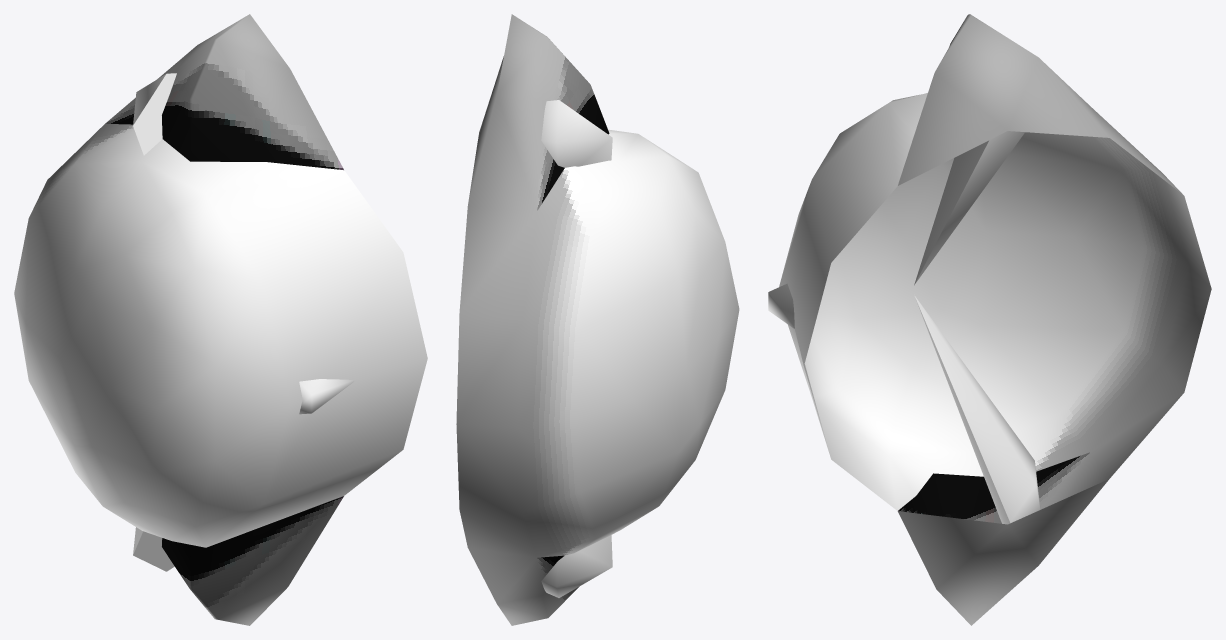
The model's file is girl00b.dae.
3 views of the same model, side by side, from view 1: azimuth 30°, elevation 25°; view 2: azimuth 150°, elevation 25°; view 3: azimuth 270°, elevation 25° (orthographic).
Parts seen in each view (by area): view 1: girl00b; view 2: girl00b; view 3: girl00b.
Boxes of the visible parts, <box> form: girl00b: <box>14,14,427,625</box>; girl00b: <box>456,14,739,625</box>; girl00b: <box>768,14,1211,625</box>.
Bounding box in the file's own units: 15.5 × 32.8 × 21.59.
3 materials, 1 textured.
